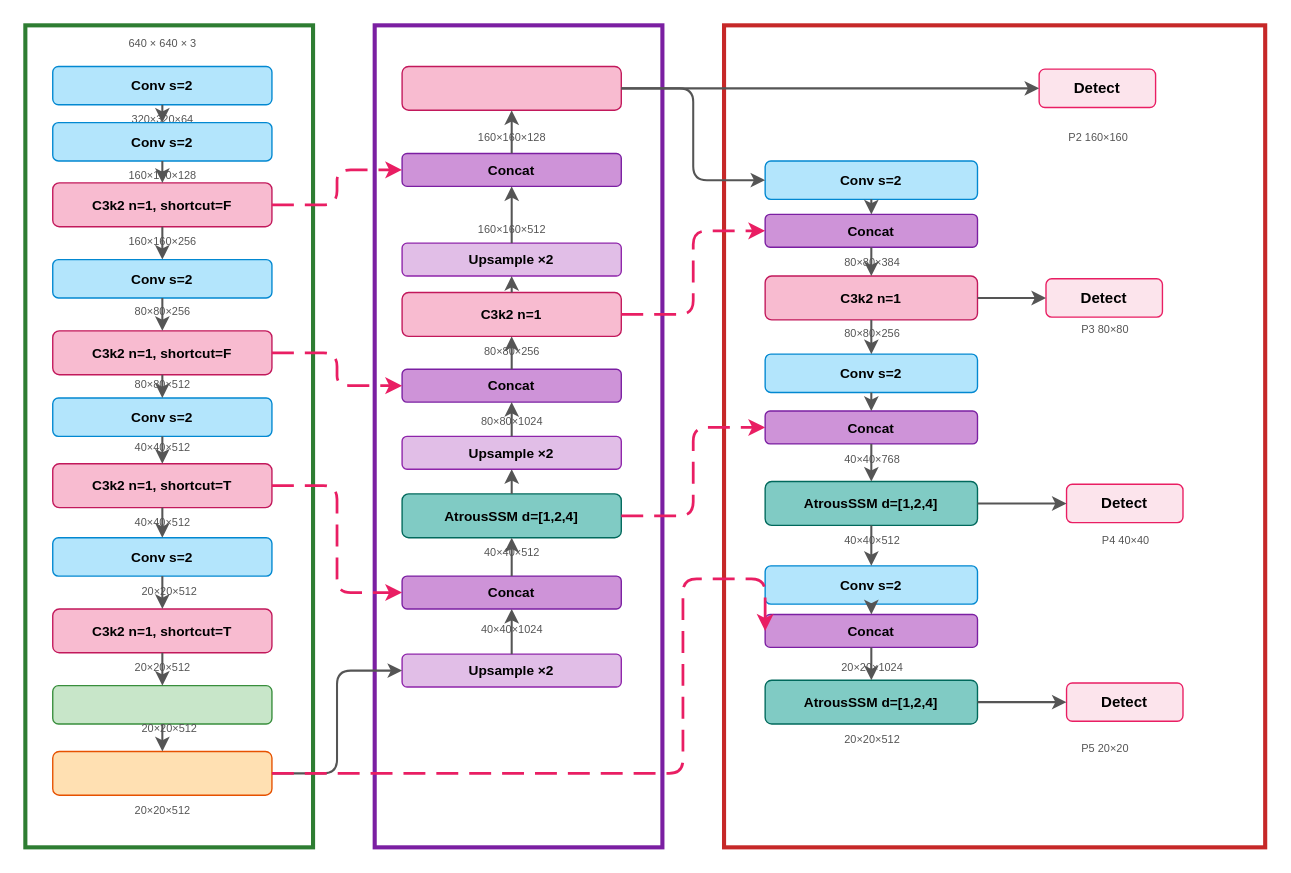
Some shapes in this 1291 by 873 pixel diagram are drawn without their labels. The shapes that lost their labels are listed below. From the top down, each one's box as (x1, y1, x2, y2) in pixels, then its label:
(401, 65, 621, 110): C3k2 n=1 (P2)
(23, 23, 314, 849): Backbone
(372, 23, 664, 849): Neck (FPN)
(721, 23, 1267, 849): Head (PAN + Detect)
(51, 684, 272, 724): SPPF k=5
(51, 750, 272, 795): CBAM ⬅ replaces C2PSA
